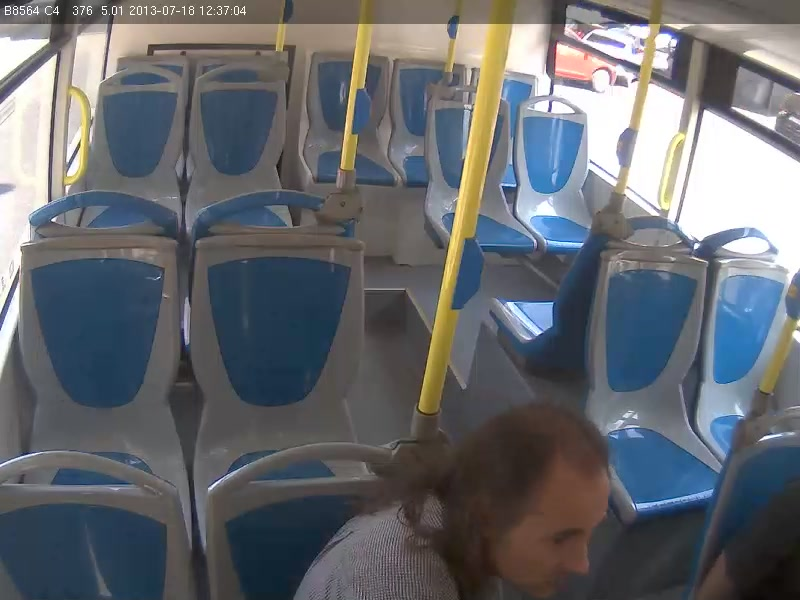Head: (457, 399, 611, 597)
